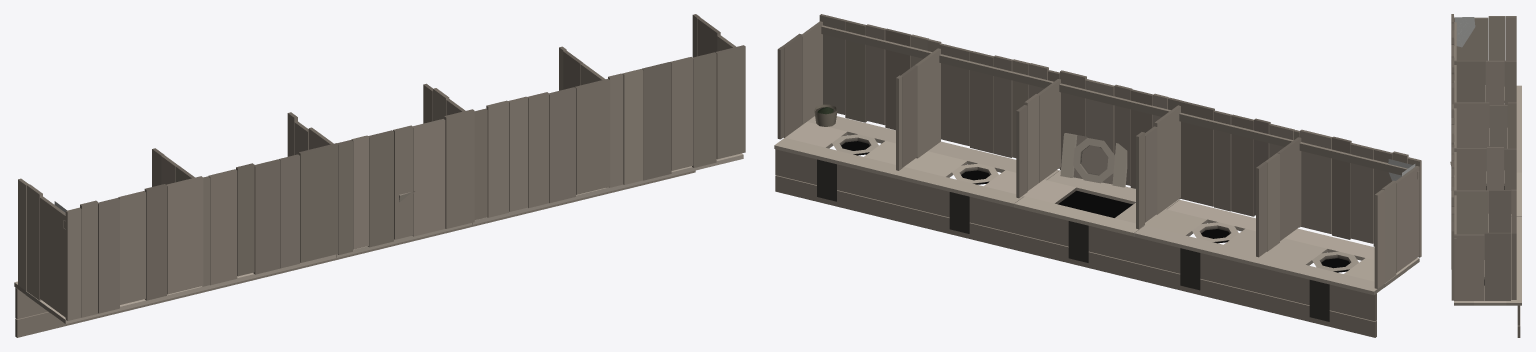
Rendered from prop_latrine_seat.glb.
3 views of the same model, side by side, from view 1: azimuth 30°, elevation 25°; view 2: azimuth 150°, elevation 25°; view 3: azimuth 270°, elevation 25° (orthographic). The views are drawn at different scales.
Visible parts, largest first — view 1: LatrineSeat; view 2: LatrineSeat; view 3: LatrineSeat.
Part boxes in pixels (bbox=[...]): LatrineSeat: bbox=[14, 14, 745, 337]; LatrineSeat: bbox=[774, 14, 1421, 337]; LatrineSeat: bbox=[1450, 14, 1521, 337].
Size of the model in its own units: 6 by 1.4 by 0.8369.
